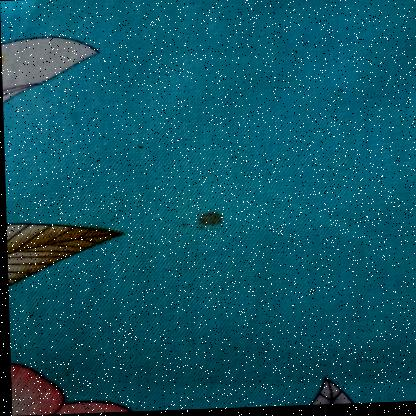spot: (177, 209, 233, 231), (134, 140, 148, 152)
